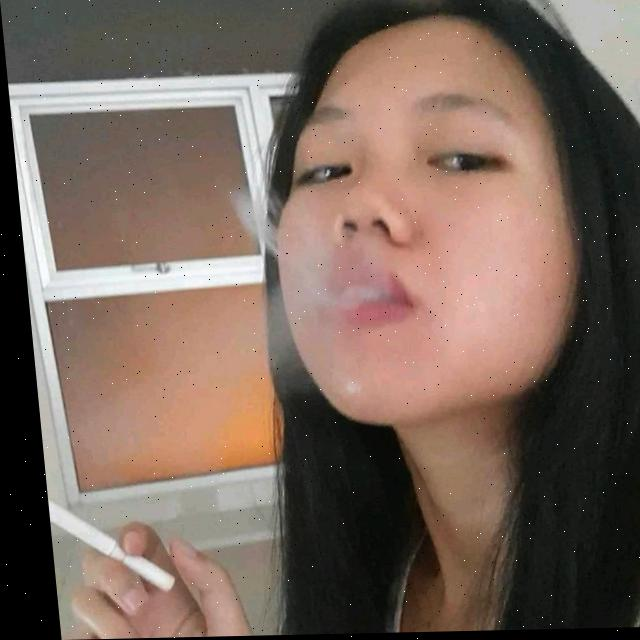cigarette: (38, 498, 165, 596)
